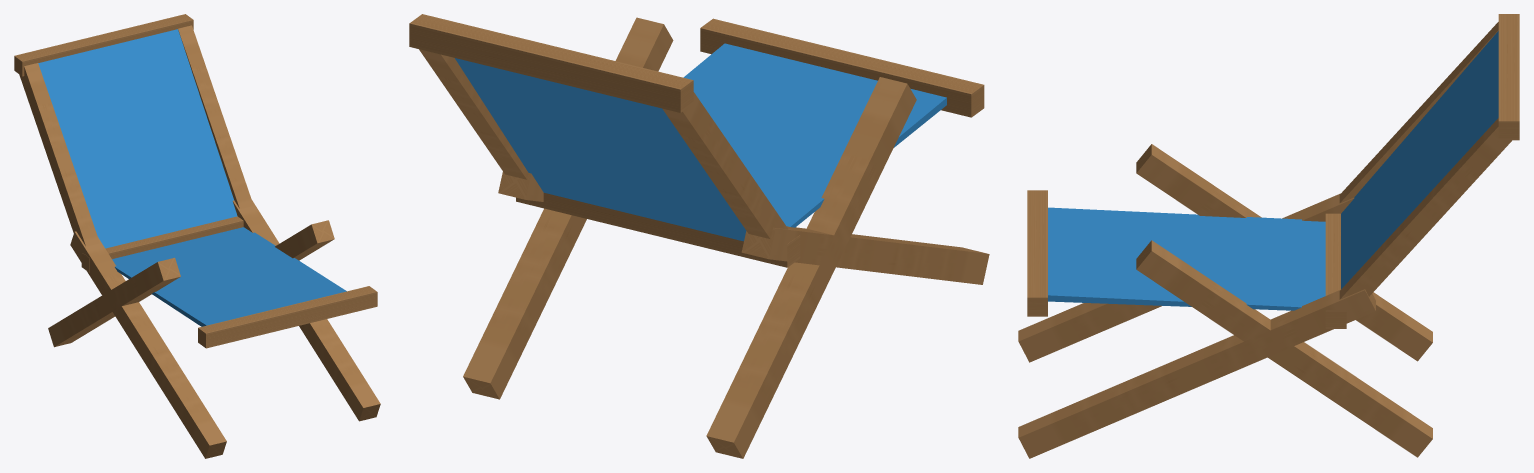
The model's file is lounge_chair.glb.
The picture shows the model from 3 angles, left to right: view 1: azimuth 30°, elevation 25°; view 2: azimuth 150°, elevation 25°; view 3: azimuth 270°, elevation 25°; orthographic projection. The views are drawn at different scales.
Visible parts, largest first — view 1: beach_lounge_chair; view 2: beach_lounge_chair; view 3: beach_lounge_chair.
Boxes of the visible parts, left/top/right/bottom form: beach_lounge_chair: left=14, top=14, right=380, bottom=458; beach_lounge_chair: left=409, top=14, right=989, bottom=458; beach_lounge_chair: left=1018, top=14, right=1519, bottom=458.
Size of the model in its own units: 0.74 by 1.09 by 1.46.
1 material, 1 textured.
